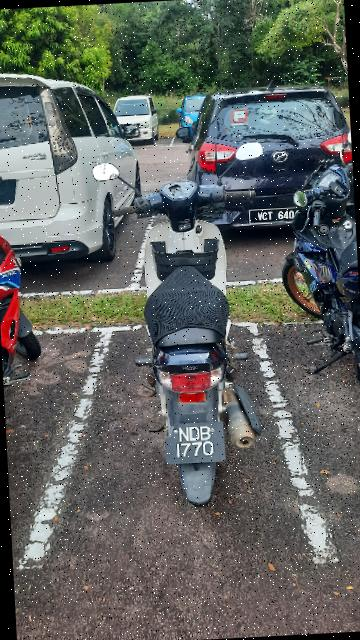License_Plate: (164, 416, 228, 468)
motorcycle: (89, 136, 287, 518)
